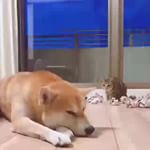puppy: (1, 70, 100, 149)
